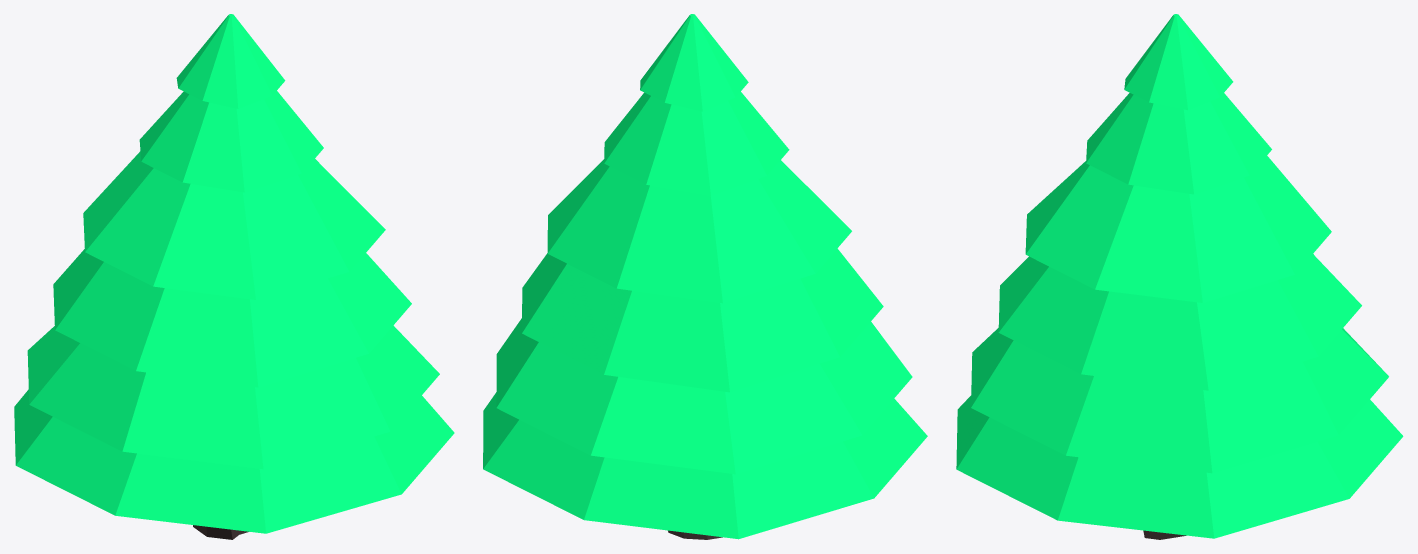
The model's file is tree.fbx.
3 views of the same model, side by side, from view 1: azimuth 30°, elevation 25°; view 2: azimuth 150°, elevation 25°; view 3: azimuth 270°, elevation 25° (orthographic).
Parts seen in each view (by area): view 1: body; view 2: body; view 3: body.
Part boxes in pixels (x1,y1,x2,y2): body: [14, 14, 454, 533]; body: [483, 14, 927, 539]; body: [956, 14, 1403, 538].
Size of the model in its own units: 0.9753 by 1.25 by 0.9879.
